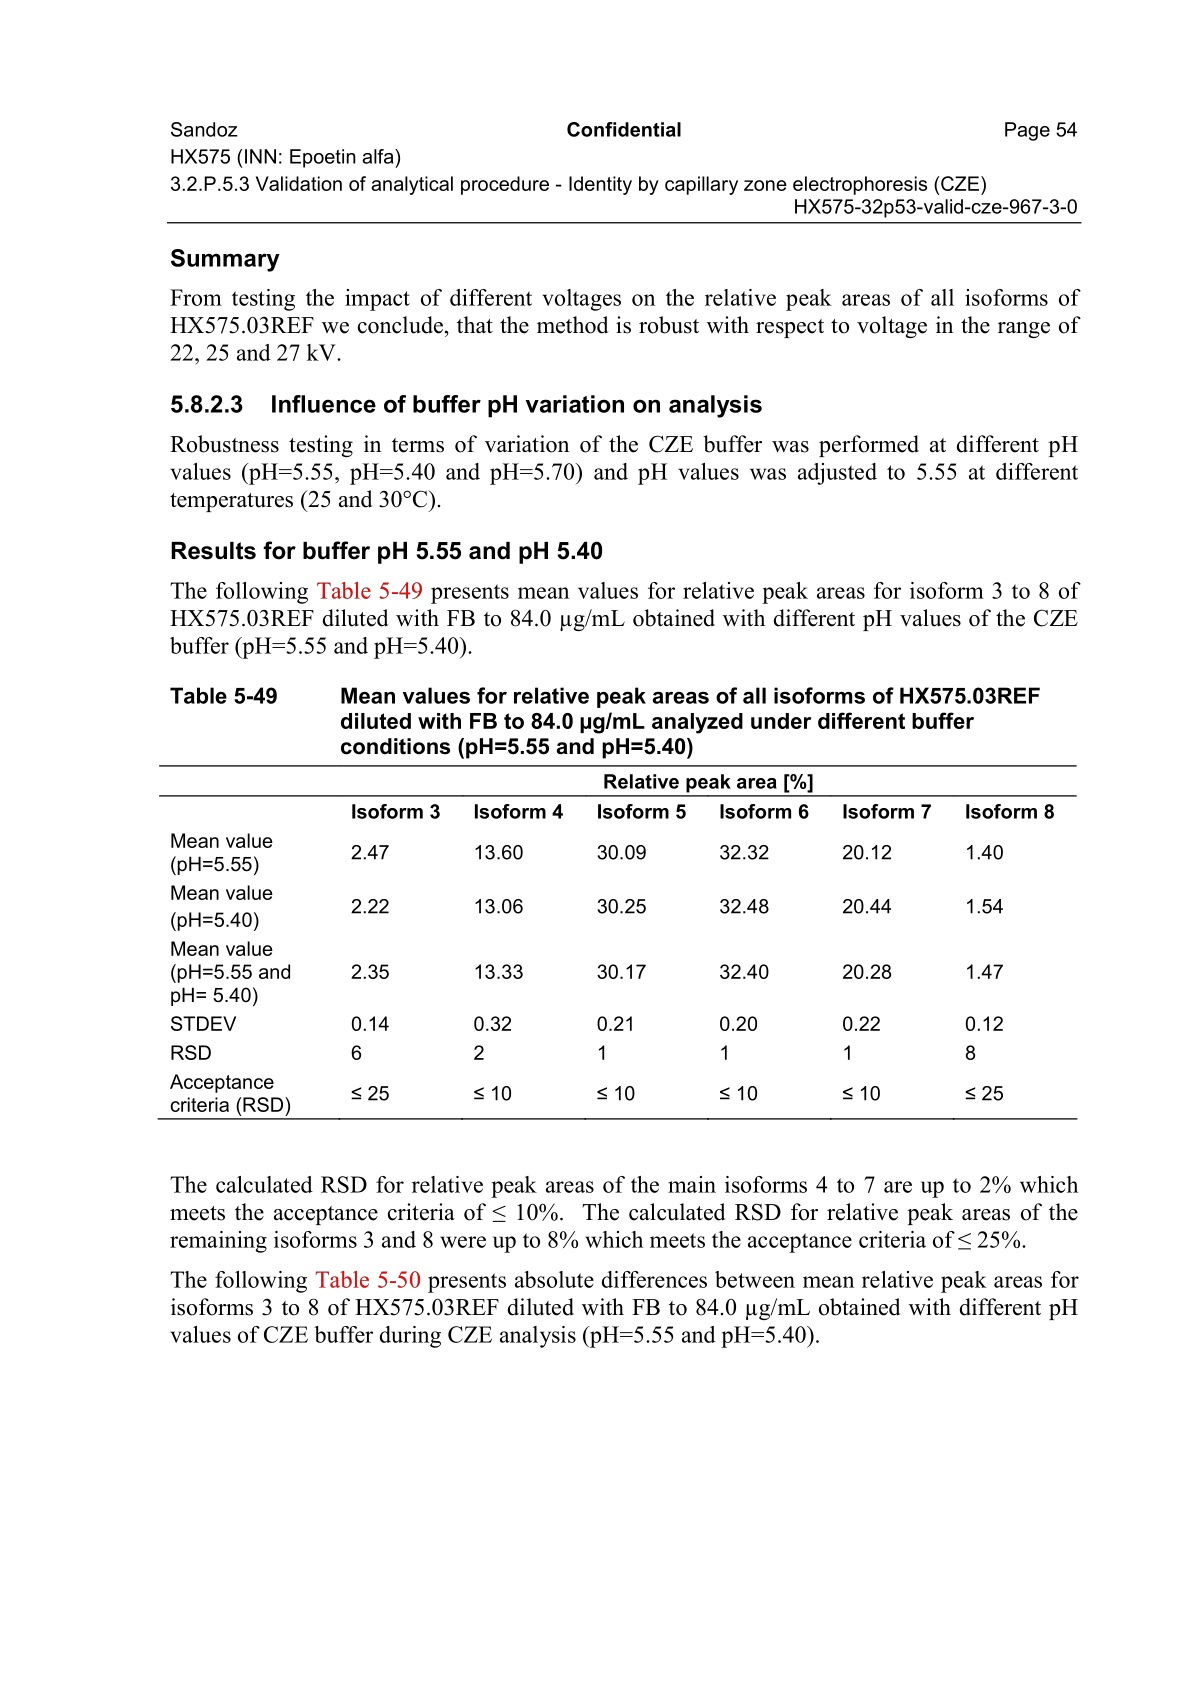partial_lined_merged_cells: (159, 764, 1076, 1121)
